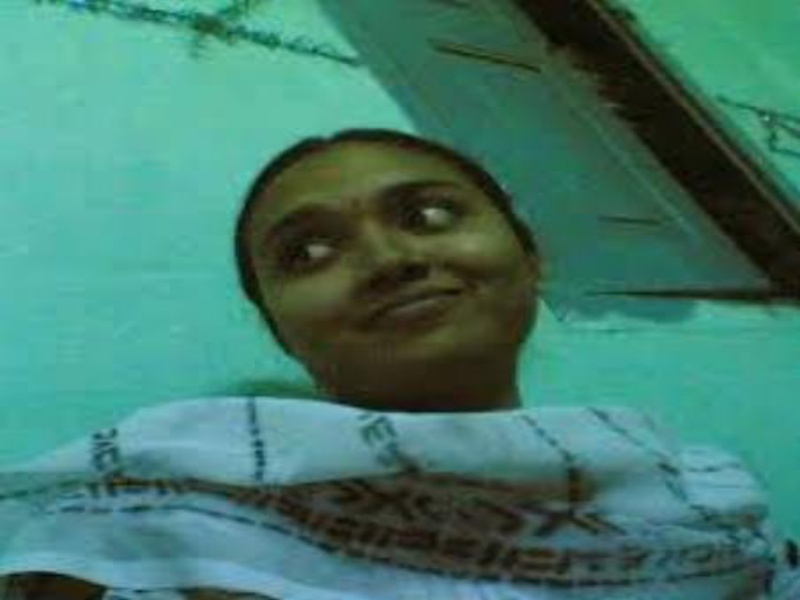TsisyArotava: (224, 91, 577, 431)
